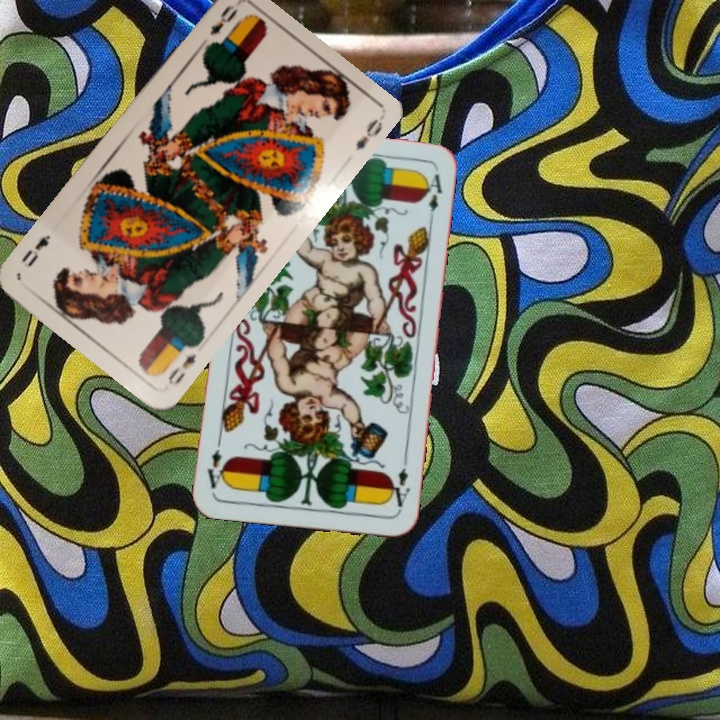EA: (385, 464, 413, 509)
EO: (163, 340, 201, 388), (205, 1, 241, 39)
